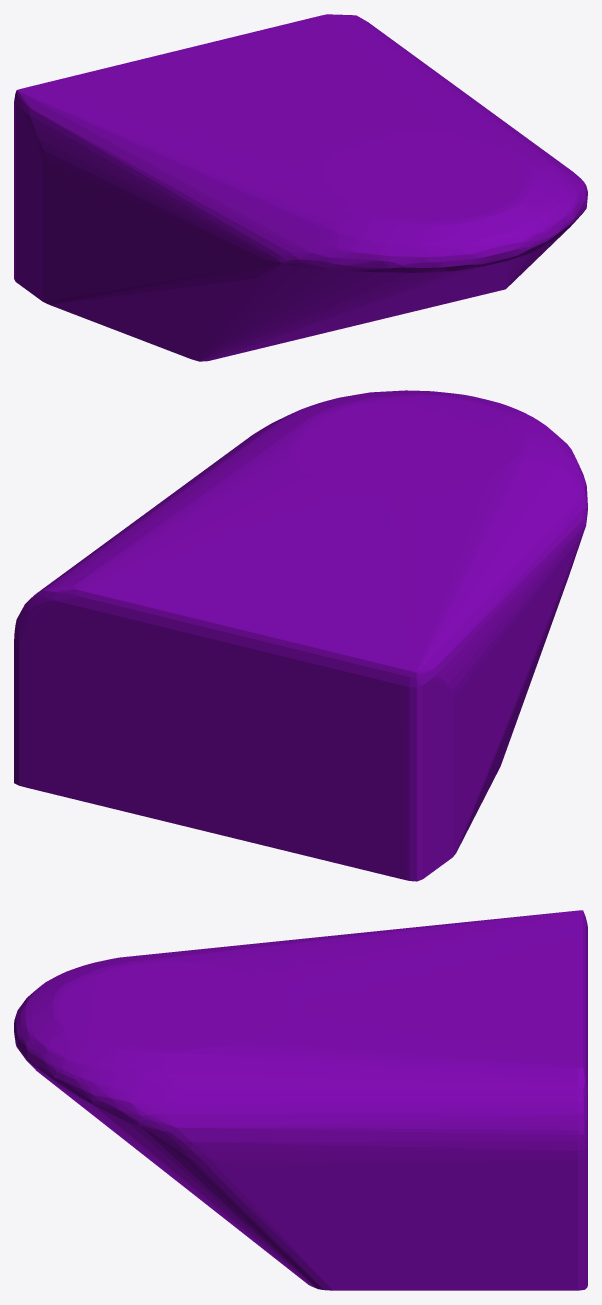
The model's file is right_palm_part_32.obj.
3 views of the same model, one above another, from view 1: azimuth 30°, elevation 25°; view 2: azimuth 150°, elevation 25°; view 3: azimuth 270°, elevation 25° (orthographic). The views are drawn at different scales.
Bounding box in the file's own units: 21.48 × 10.99 × 27.89.
